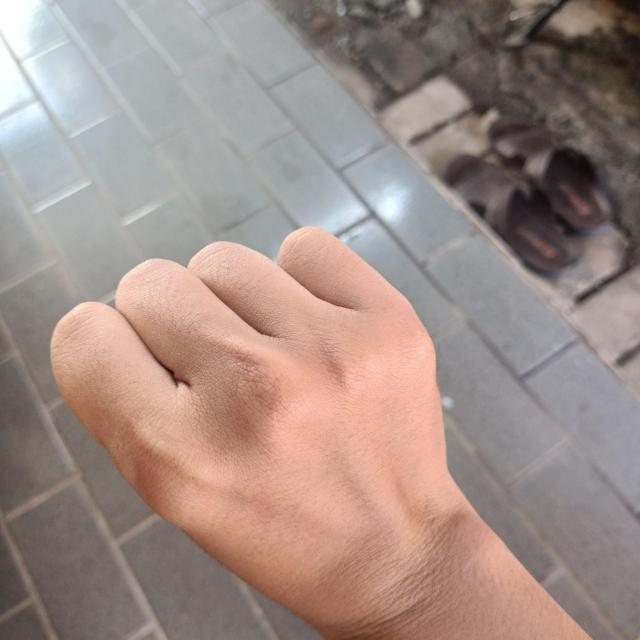fist: (37, 215, 464, 631)
